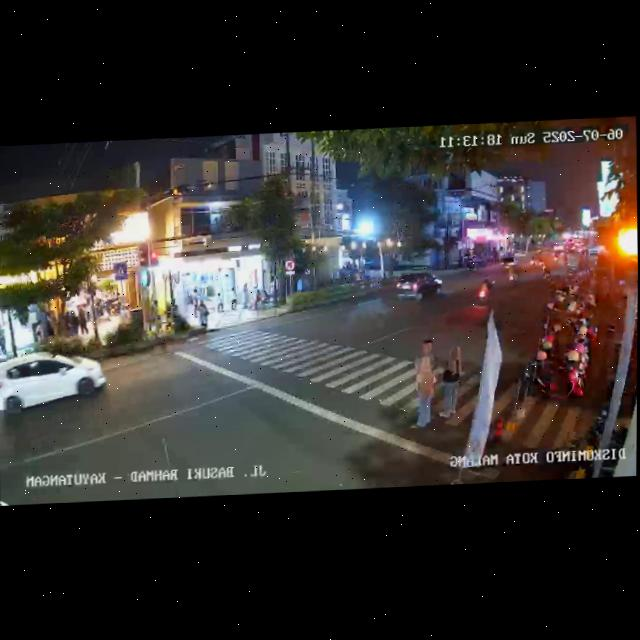car: (0, 349, 105, 422), (393, 268, 443, 303), (499, 256, 517, 271)
motorcycle: (476, 277, 493, 306), (507, 262, 520, 285), (541, 260, 552, 280)
person: (406, 353, 437, 430), (437, 343, 464, 421), (410, 339, 438, 371), (66, 307, 79, 338), (198, 298, 210, 330), (188, 290, 199, 323), (78, 305, 89, 336), (241, 281, 250, 311), (230, 287, 239, 310), (217, 289, 225, 313), (0, 325, 6, 355)
